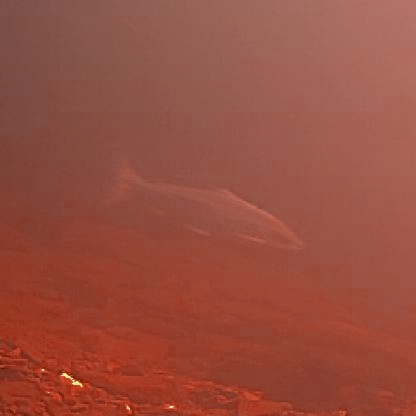salmon: (97, 151, 310, 255)
